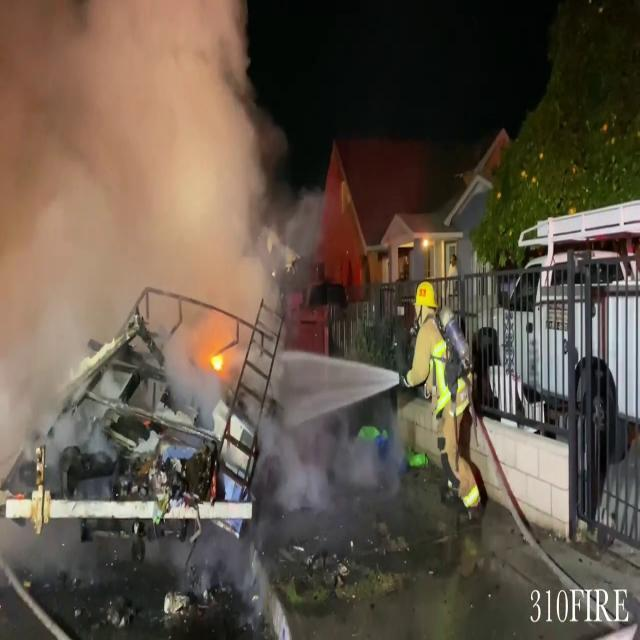Smoke: (0, 0, 301, 468)
